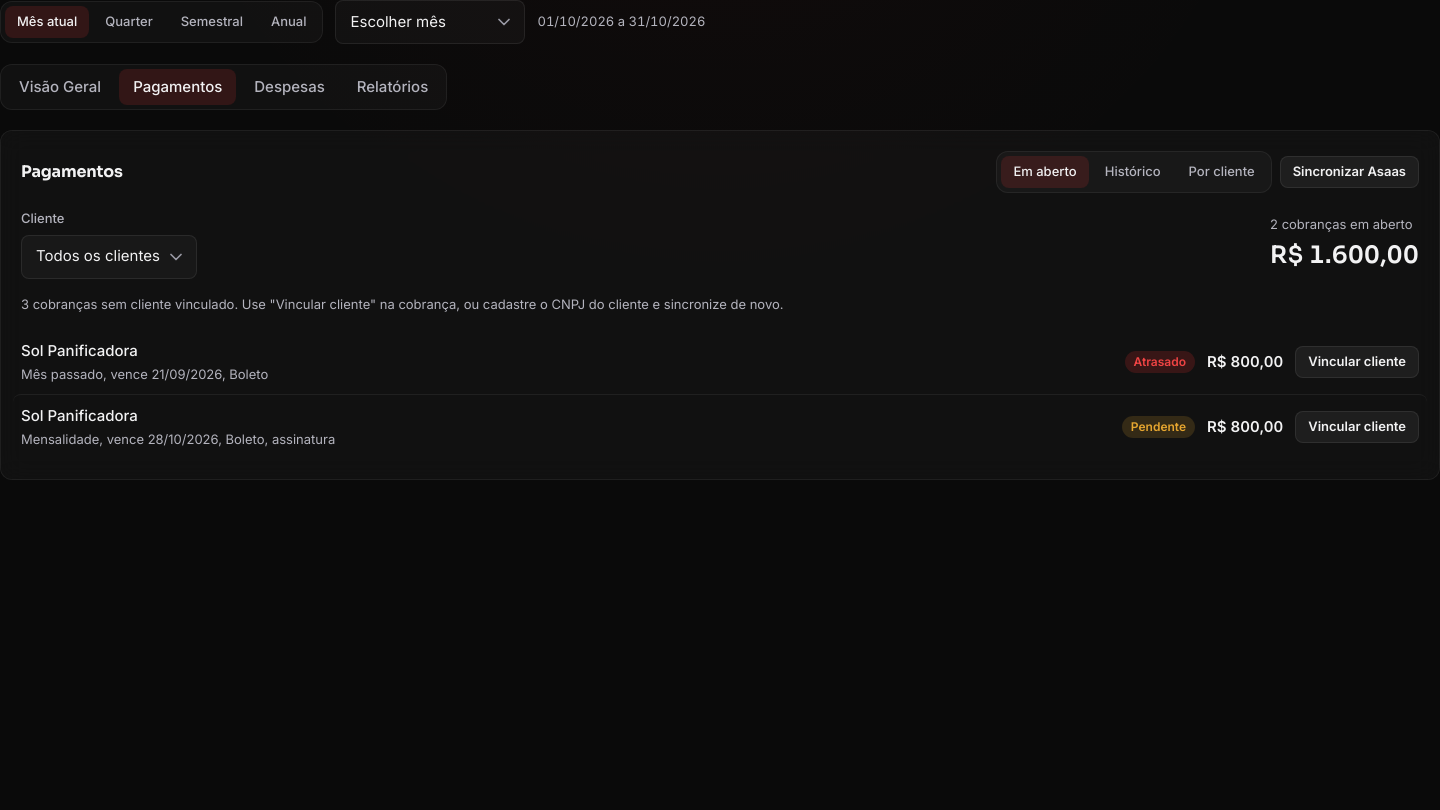
Scenario: Pagamentos › vincular salva o id do Asaas no cliente e vincula todas as cobranças dele
Click the button with aria-label "Vincular cliente de Sol Panificadora": (1357, 362) left=1295, top=346, right=1419, bottom=378
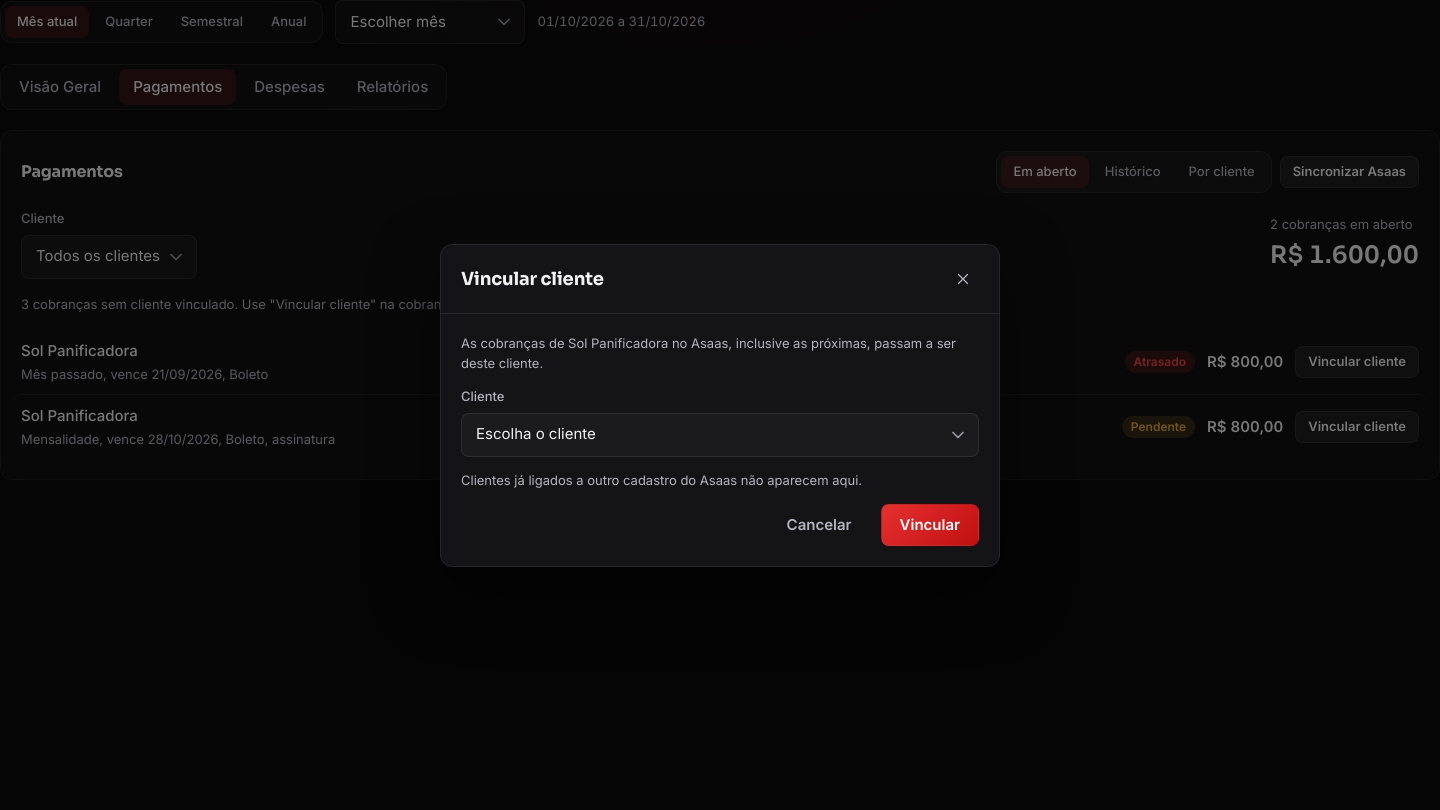
Select "Padaria Sol" in the dropdown labelled "Cliente": (720, 434) left=461, top=412, right=979, bottom=456
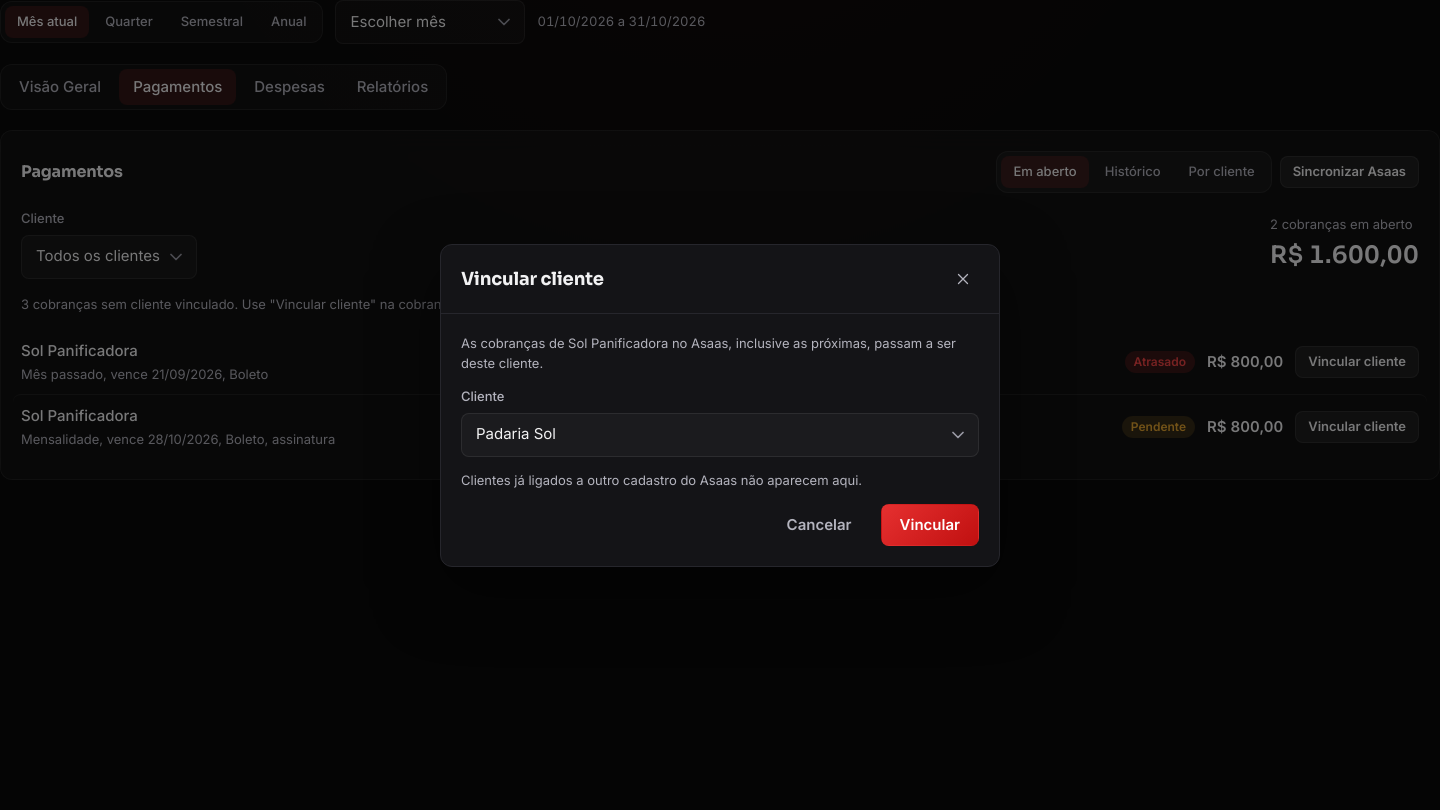
Click the button "Vincular": (930, 524) left=881, top=504, right=979, bottom=546
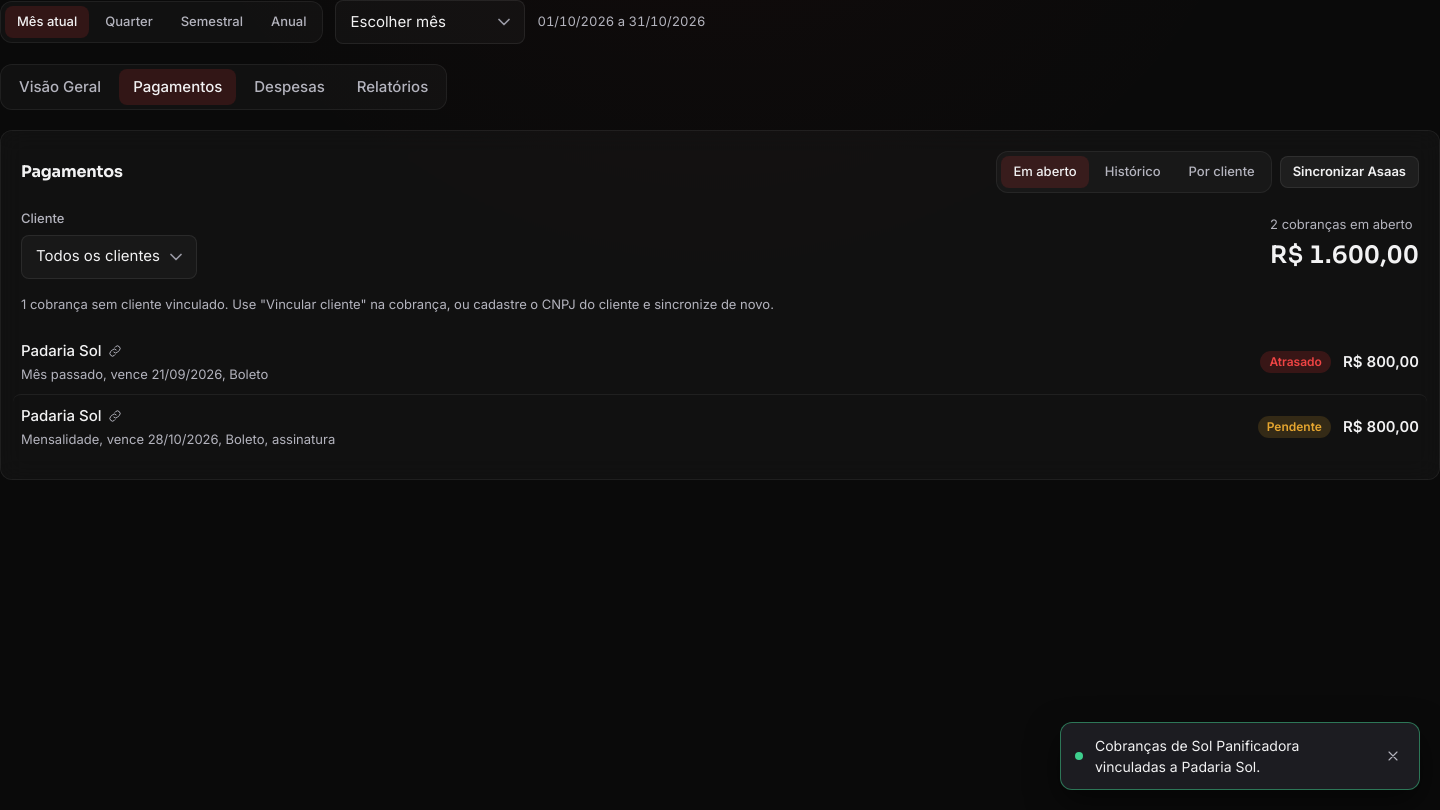
expect the text "Cobranças de Sol Panificadora vinculadas a Padaria Sol." is shown: met, box left=1095, top=737, right=1299, bottom=775
expect no buttons "Vincular cliente" are shown: met
